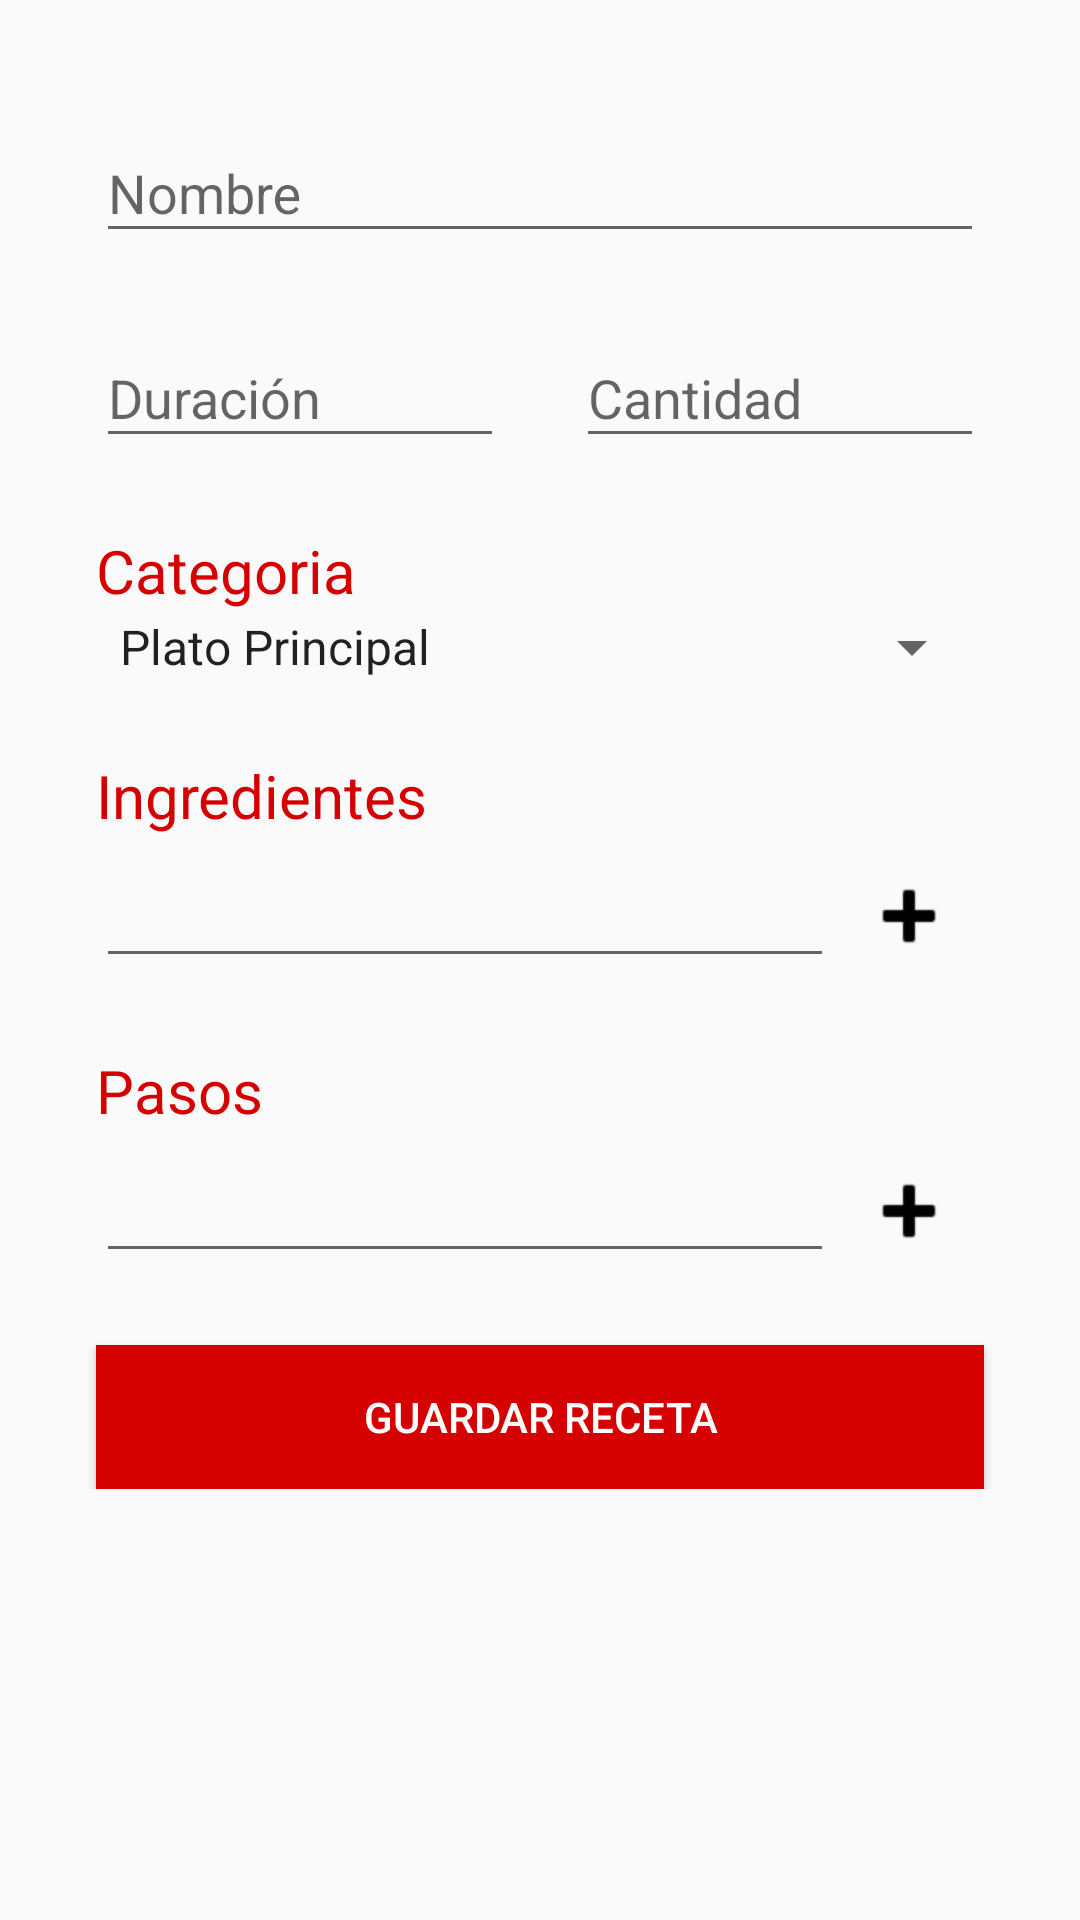

Named icons in this screenshot (1080 x 1920) and their centers, (x=x, y=y):
add: (x=909, y=916), (x=909, y=1211)
